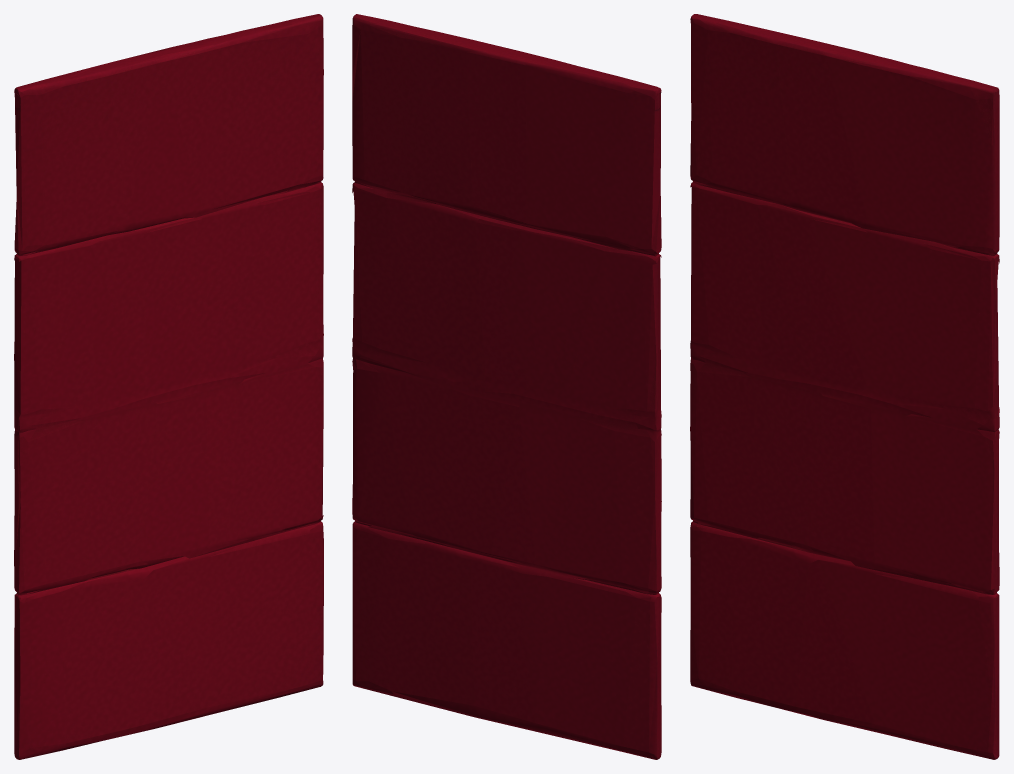
Rendered from panel_ai_red.glb.
The picture shows the model from 3 angles, left to right: view 1: azimuth 30°, elevation 25°; view 2: azimuth 150°, elevation 25°; view 3: azimuth 330°, elevation 25°; orthographic projection.
Bounding box in the file's own units: 0.9055 × 1.9 × 0.0574.
Materials: 1 (1 with a texture image).
